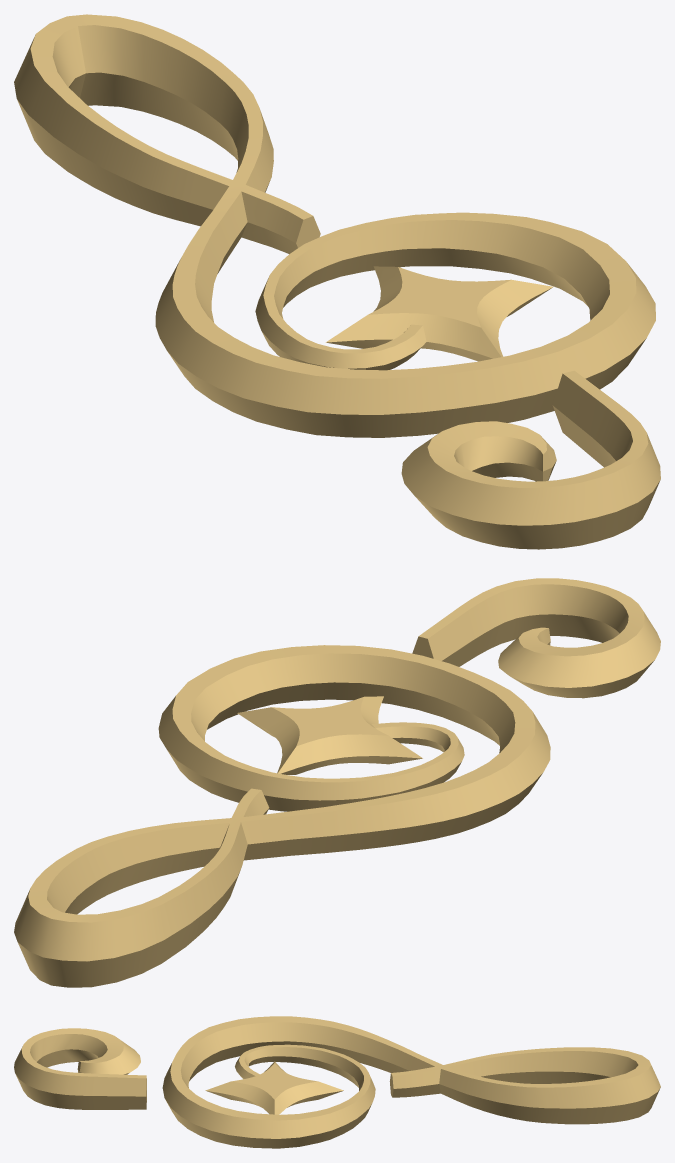
File: Sigil33.fbx
3 views of the same model, one above another, from view 1: azimuth 30°, elevation 25°; view 2: azimuth 150°, elevation 25°; view 3: azimuth 270°, elevation 25° (orthographic). The views are drawn at different scales.
Visible parts, largest first — view 1: Sigil_33; view 2: Sigil_33; view 3: Sigil_33.
Part boxes in pixels (left/top/right/bottom): Sigil_33: left=14, top=14, right=660, bottom=549; Sigil_33: left=14, top=578, right=660, bottom=987; Sigil_33: left=14, top=1016, right=660, bottom=1148.
Bounding box in the file's own units: 0.0419 × 0.00753 × 0.1025.
